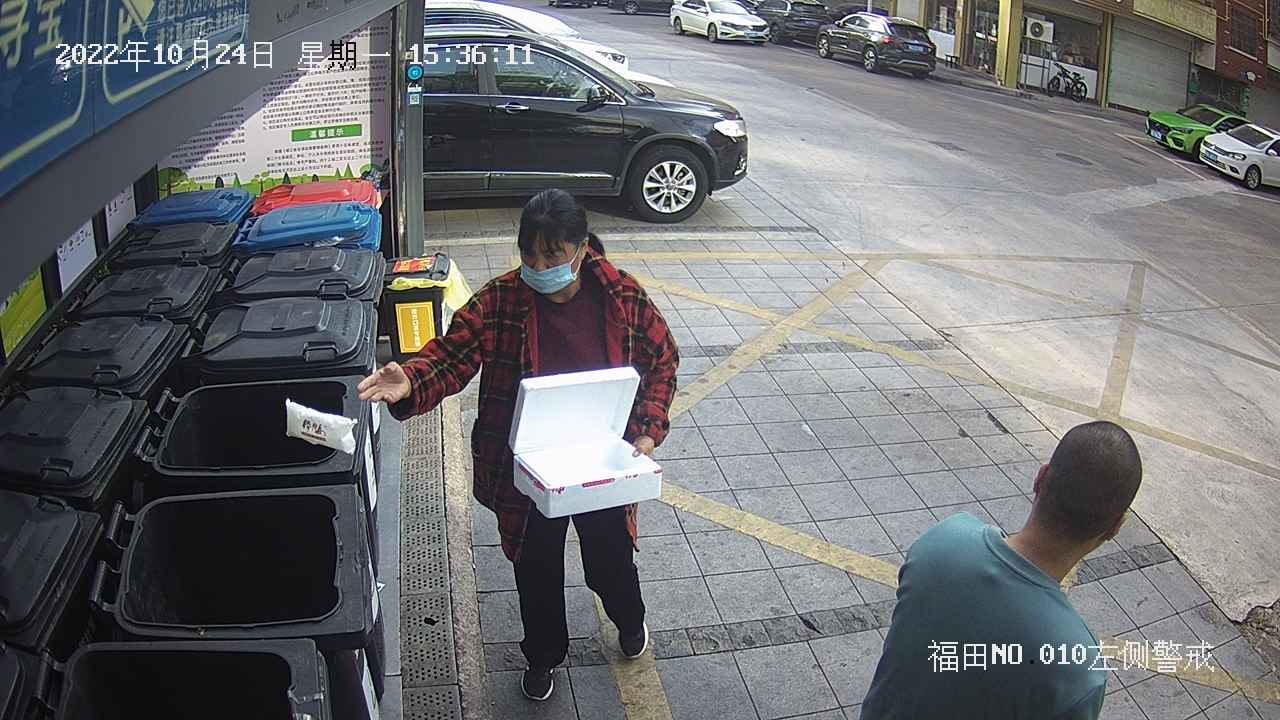paomozhipin: (502, 360, 668, 522)
person: (350, 181, 684, 711), (847, 414, 1146, 720)
